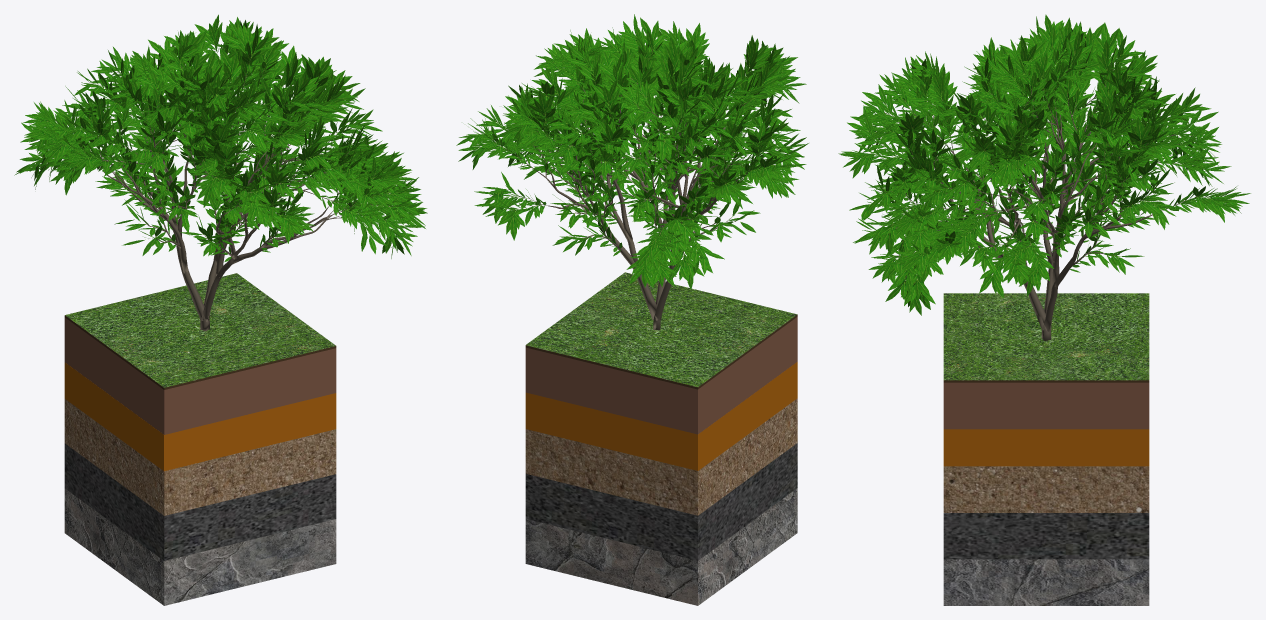
File: stratigrafi-sangiran.glb
The picture shows the model from 3 angles, left to right: view 1: azimuth 30°, elevation 25°; view 2: azimuth 150°, elevation 25°; view 3: azimuth 270°, elevation 25°; orthographic projection. The views are drawn at different scales.
Visible parts, largest first — view 1: leaves_0, Plane_9, Cube_3, Cube.001_5, Cube.003_7, Cube.002_6, Cube.005_2, Cube.004_8; view 2: leaves_0, Plane_9, Cube_3, Cube.001_5, Cube.003_7, Cube.002_6, Cube.005_2, Cube.004_8; view 3: leaves_0, Plane_9, Cube.003_7, Cube_3, Cube.002_6, Cube.001_5, Cube.005_2, Cube.004_8.
Boxes of the visible parts, box(x1,y1,x2,y2) form: leaves_0: box(14, 14, 427, 331); Plane_9: box(65, 273, 335, 387); Cube_3: box(64, 488, 336, 605); Cube.001_5: box(64, 443, 336, 560); Cube.003_7: box(64, 317, 336, 434); Cube.002_6: box(64, 399, 336, 515); Cube.005_2: box(64, 362, 336, 471); Cube.004_8: box(64, 315, 336, 389); leaves_0: box(456, 14, 808, 330); Plane_9: box(526, 272, 797, 387); Cube_3: box(525, 488, 797, 605); Cube.001_5: box(525, 443, 797, 560); Cube.003_7: box(525, 317, 797, 434); Cube.002_6: box(525, 398, 797, 515); Cube.005_2: box(525, 362, 797, 470); Cube.004_8: box(525, 314, 797, 389); leaves_0: box(838, 14, 1250, 340); Plane_9: box(943, 293, 1149, 380); Cube.003_7: box(943, 382, 1149, 429); Cube_3: box(943, 559, 1149, 605); Cube.002_6: box(943, 466, 1149, 512); Cube.001_5: box(943, 513, 1149, 559); Cube.005_2: box(943, 429, 1149, 466); Cube.004_8: box(943, 380, 1149, 382).
Size of the model in its own units: 3.79 by 5.53 by 4.03.
Materials: 9 (6 with a texture image).
